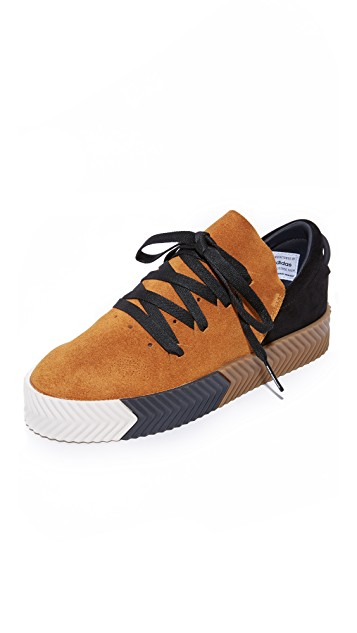adidas AW Skate Sand: (17, 203, 338, 450)
